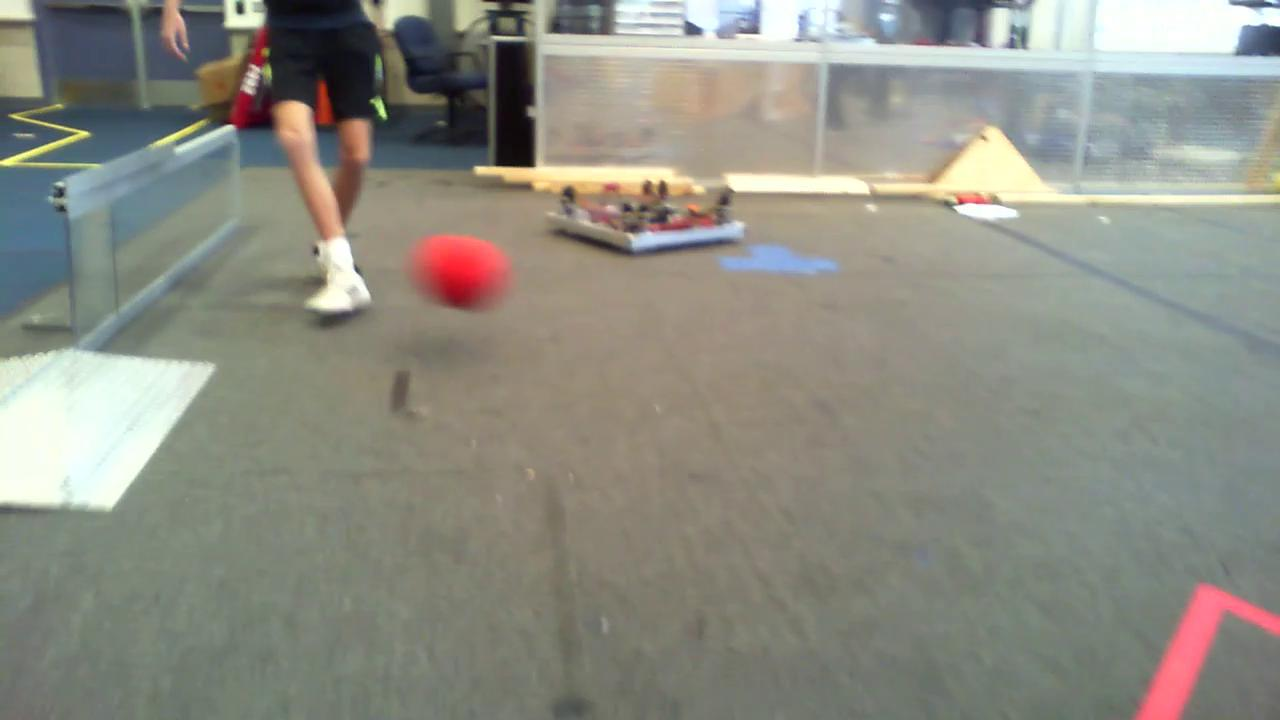Red_Ball: (409, 220, 509, 316)
